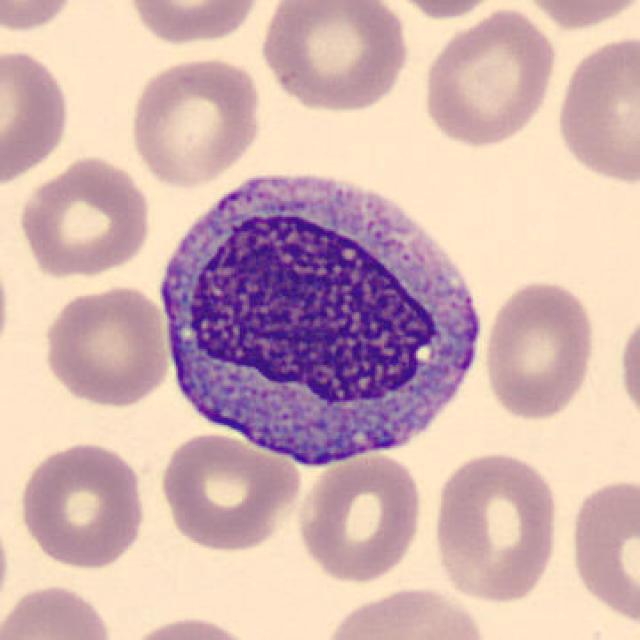Monocyte: (146, 155, 496, 476)
RBC: (428, 448, 564, 606), (418, 5, 560, 150), (124, 53, 265, 189), (155, 428, 304, 554), (293, 448, 427, 585), (14, 437, 150, 571), (14, 152, 155, 280), (256, 0, 412, 115), (480, 275, 597, 423), (39, 282, 174, 409), (551, 30, 640, 189), (565, 471, 640, 631), (0, 44, 73, 190), (316, 582, 492, 640), (0, 580, 117, 640), (121, 0, 267, 48), (514, 0, 640, 33), (116, 612, 263, 640), (615, 304, 640, 436), (0, 0, 82, 37), (373, 0, 514, 21), (0, 241, 12, 373), (0, 504, 12, 631)
